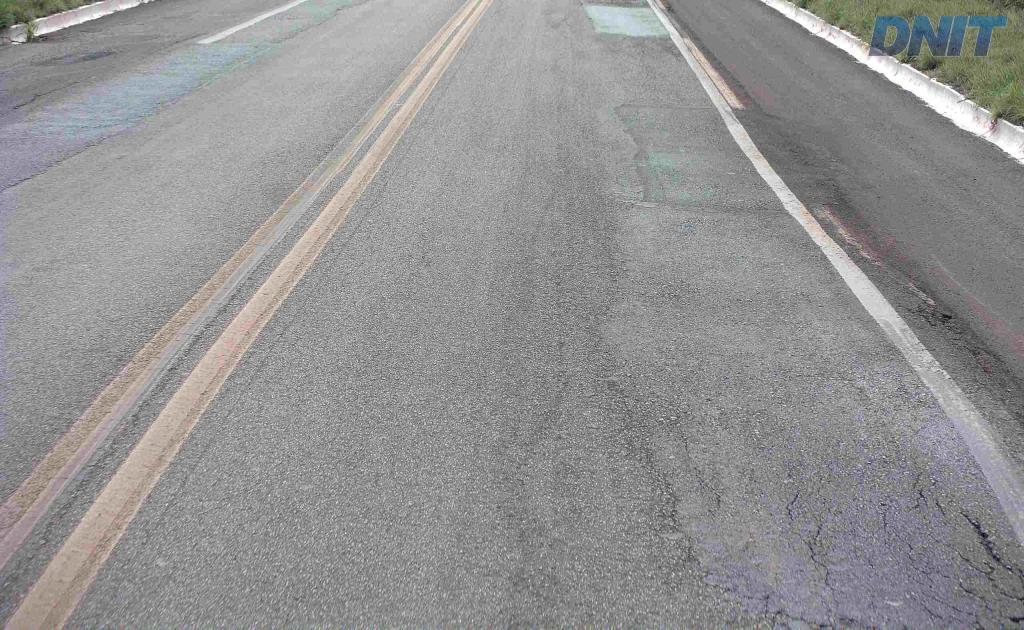crack: (946, 508, 1023, 606)
